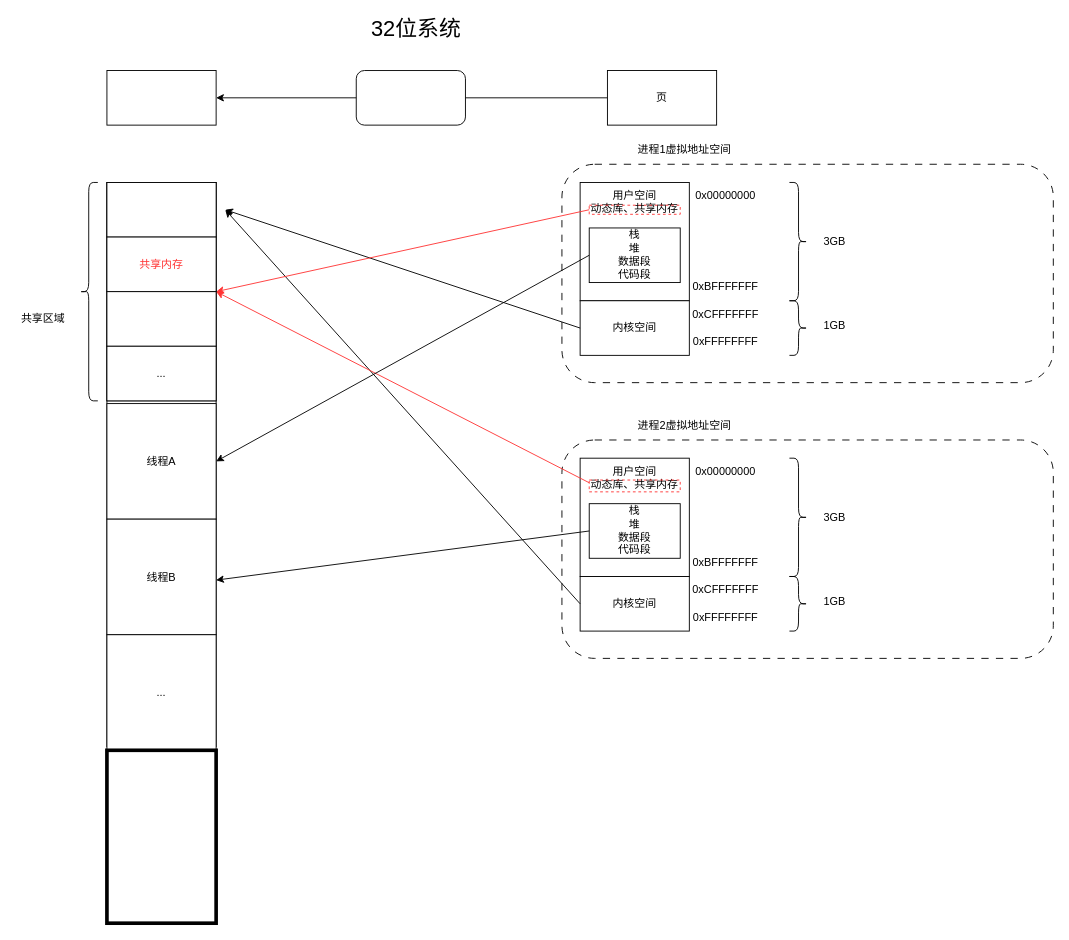
The diagram is 1069 pixels wide and 940 high, and some of its shapes have lost their labels. Here are the shapes that lost their labels. From the top down, the box of each, then its label:
(106, 70, 216, 125): 页框
(355, 70, 465, 125): 页表：映射
(106, 182, 216, 237): 内核代码
(106, 291, 216, 346): 动态库
(105, 748, 217, 925): swap磁盘扩展：会将一些不常用的虚拟页转移到swap中，释放物理内存
